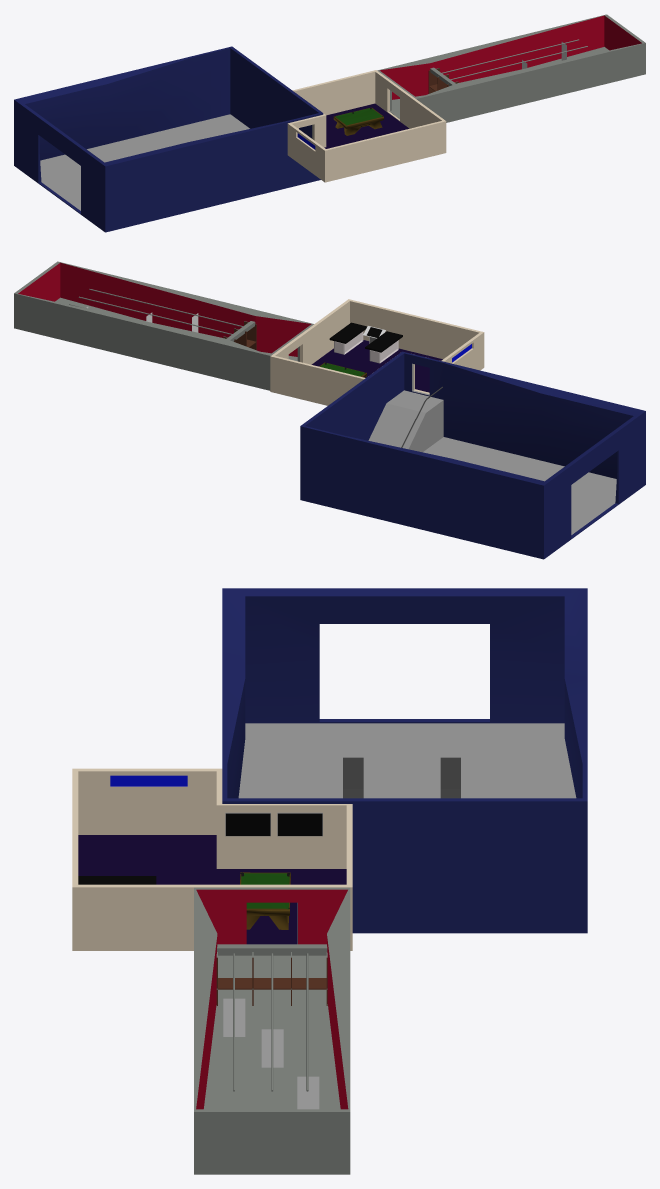
3 renders of one model, top to bottom at view 1: azimuth 30°, elevation 25°; view 2: azimuth 150°, elevation 25°; view 3: azimuth 270°, elevation 25°, orthographic. The views are drawn at different scales.
Parts seen in each view (by area): view 1: Plane, Shooting range, Building, Pool table; view 2: Plane, Shooting range, Building, Counter1, Counter2; view 3: Plane, Shooting range, Building, Pool table, Screen1, Screen2, Ramp1, Ramp2, Target2, Target1.
Part boxes in pixels (left/top/right/bottom): Plane: left=14, top=46, right=323, bottom=232; Shooting range: left=377, top=14, right=645, bottom=122; Building: left=287, top=70, right=446, bottom=182; Pool table: left=333, top=107, right=383, bottom=135; Plane: left=300, top=351, right=645, bottom=559; Shooting range: left=14, top=261, right=313, bottom=390; Building: left=270, top=299, right=484, bottom=405; Counter1: left=365, top=331, right=402, bottom=363; Counter2: left=329, top=322, right=367, bottom=354; Plane: left=222, top=588, right=587, bottom=933; Shooting range: left=194, top=887, right=350, bottom=1174; Building: left=72, top=768, right=352, bottom=950; Pool table: left=240, top=872, right=290, bottom=929; Screen1: left=225, top=812, right=270, bottom=836; Screen2: left=277, top=812, right=322, bottom=836; Ramp1: left=343, top=757, right=363, bottom=798; Ramp2: left=440, top=757, right=460, bottom=798; Target2: left=261, top=1029, right=283, bottom=1067; Target1: left=223, top=998, right=245, bottom=1036.
Bounding box in the file's own units: 15479 × 1847 × 6472.
